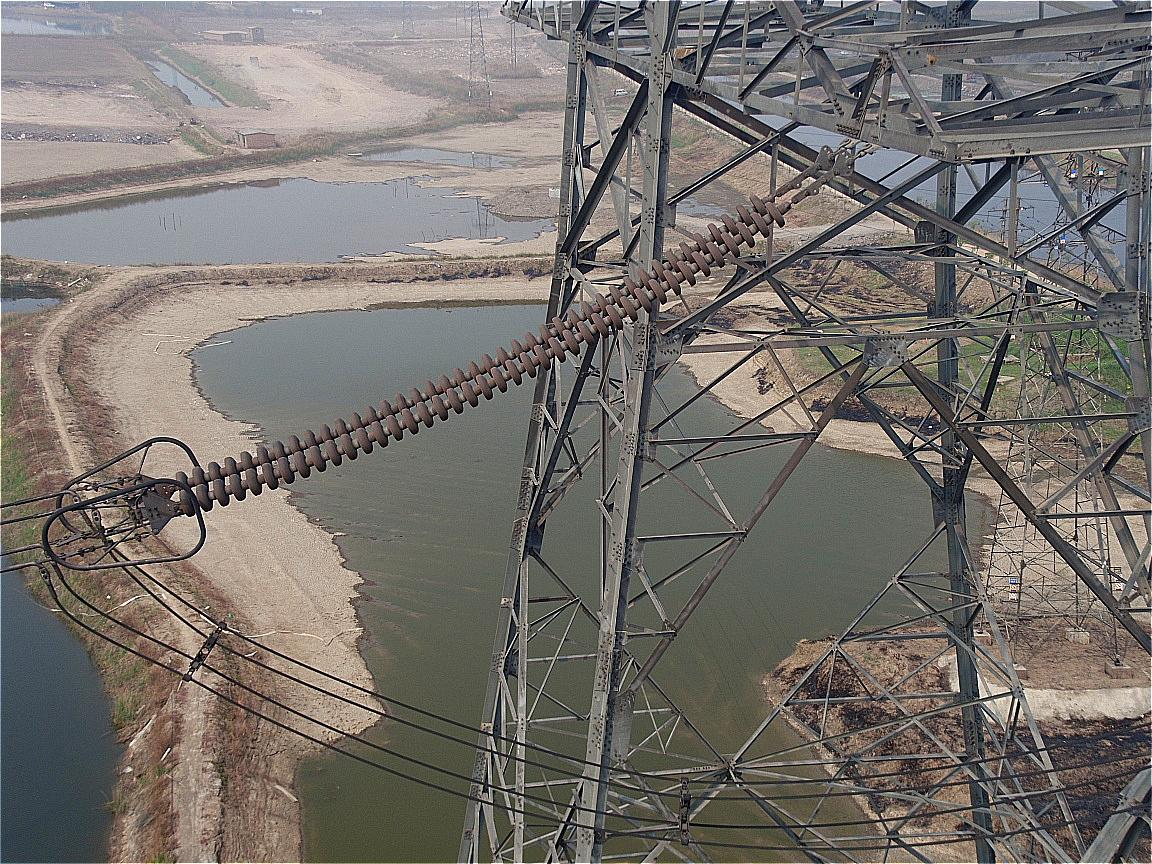insultor1: (177, 195, 783, 519)
